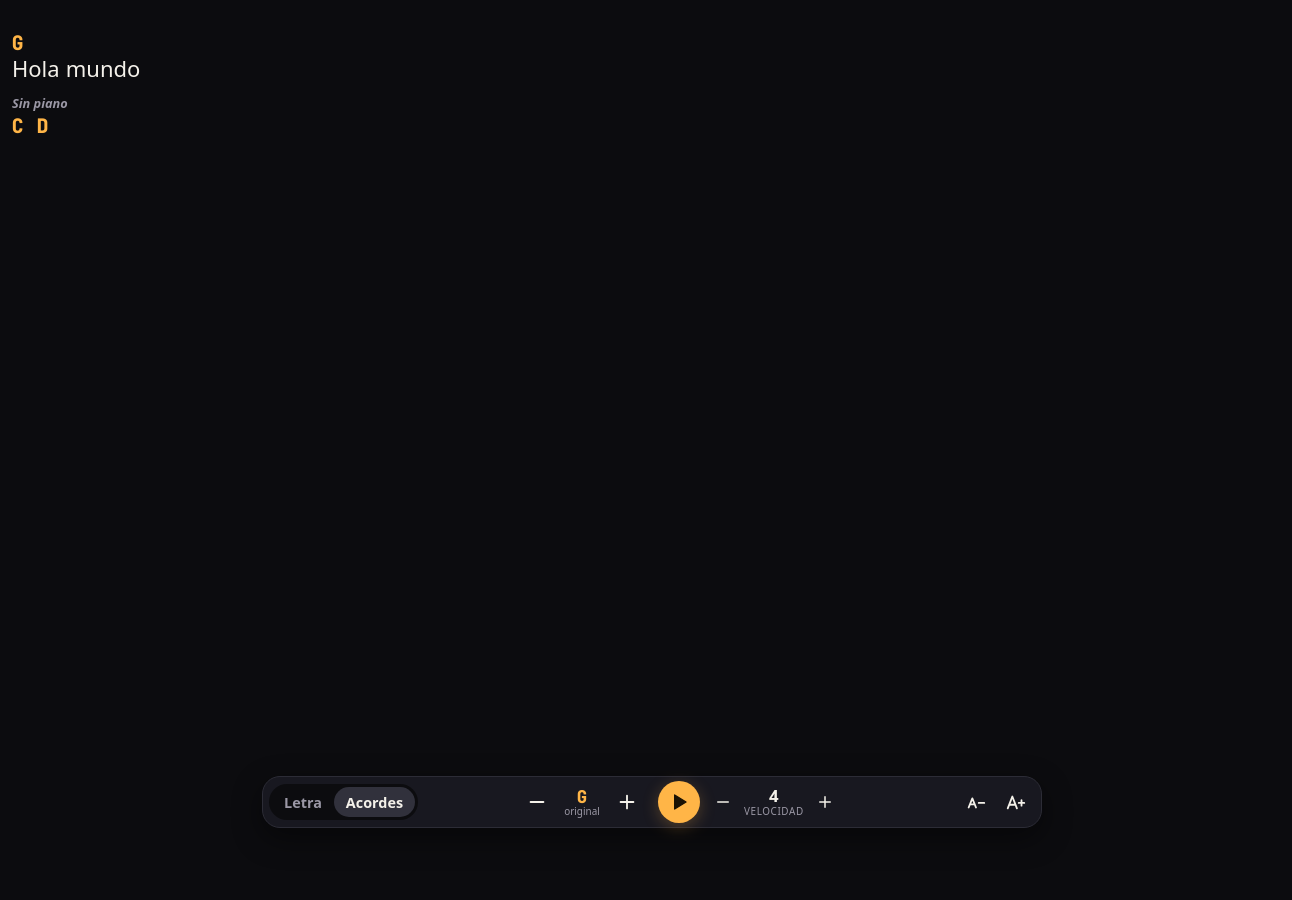
SongPanel › notes on the lyrics show in Letra only; notes on chord lines in Acordes only
The width and height of the screenshot is (1292, 900).
Expected: the text "Silencio largo" is not shown
Expected: the text "Sin piano" is shown, [12, 94, 68, 113]
What coordinates should you click on to do the following:
click the button "Letra"
I would click on:
 (303, 802)
Its box is [272, 787, 334, 817].
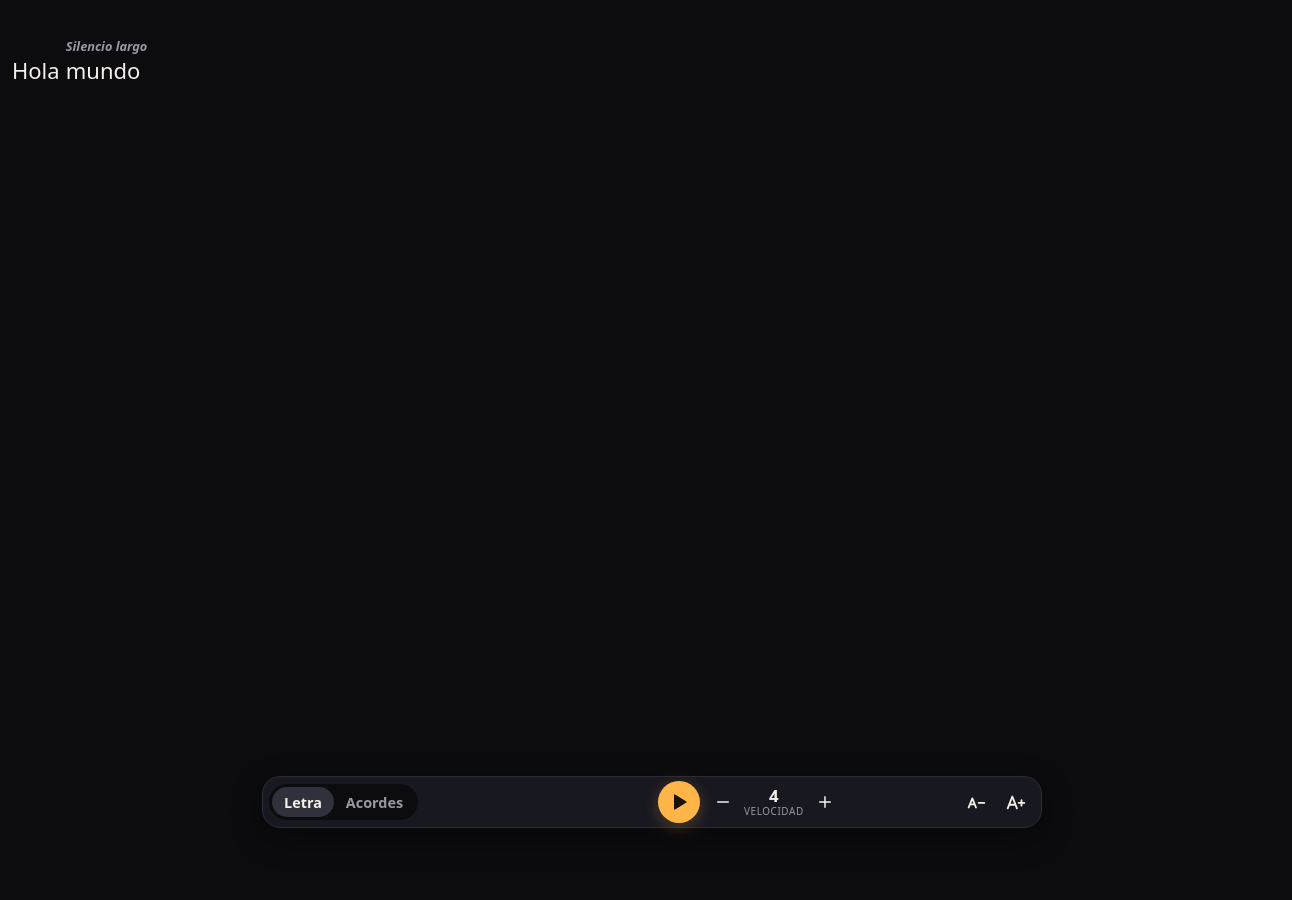
Now the text "Silencio largo" is shown, box [66, 36, 147, 56]
Now the text "Sin piano" is gone
